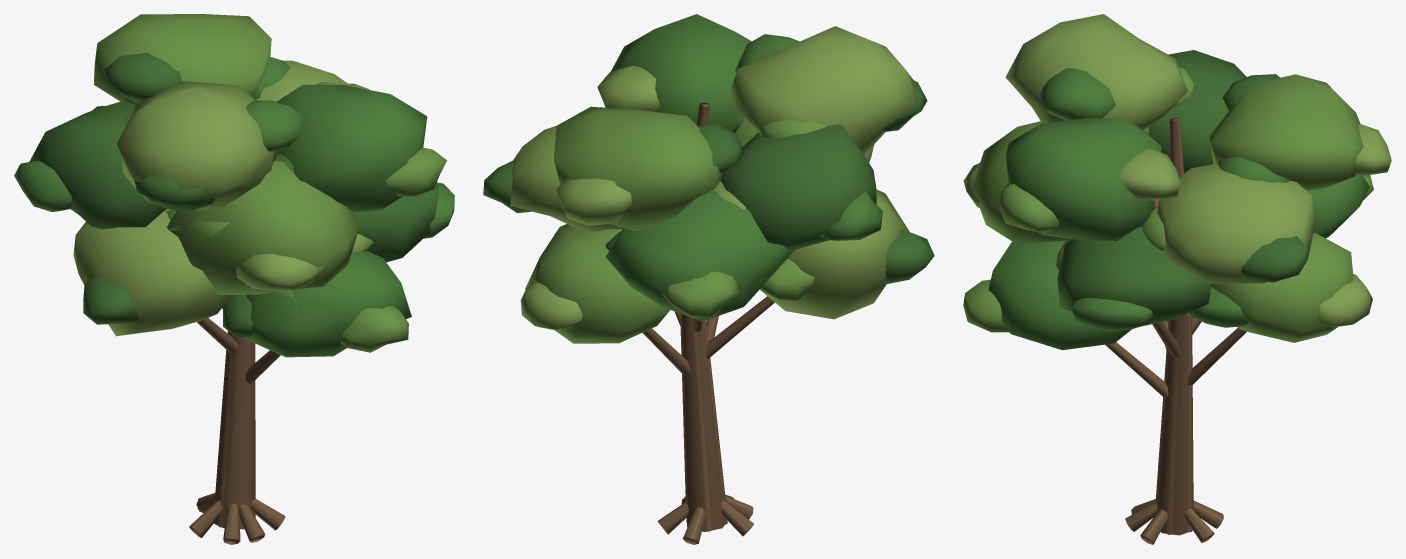
The model's file is oak.glb.
3 renders of one model, left to right at view 1: azimuth 30°, elevation 25°; view 2: azimuth 150°, elevation 25°; view 3: azimuth 270°, elevation 25°, orthographic. The views are drawn at different scales.
Parts seen in each view (by area): view 1: near, far; view 2: near, far; view 3: near, far.
Boxes of the visible parts, x1,y1,x2,y2 form: near: [14, 14, 454, 544]; far: [162, 212, 401, 544]; near: [483, 14, 934, 544]; far: [658, 103, 794, 544]; near: [963, 14, 1391, 544]; far: [1128, 118, 1223, 544].
Size of the model in its own units: 8.26 by 10.33 by 8.59.
